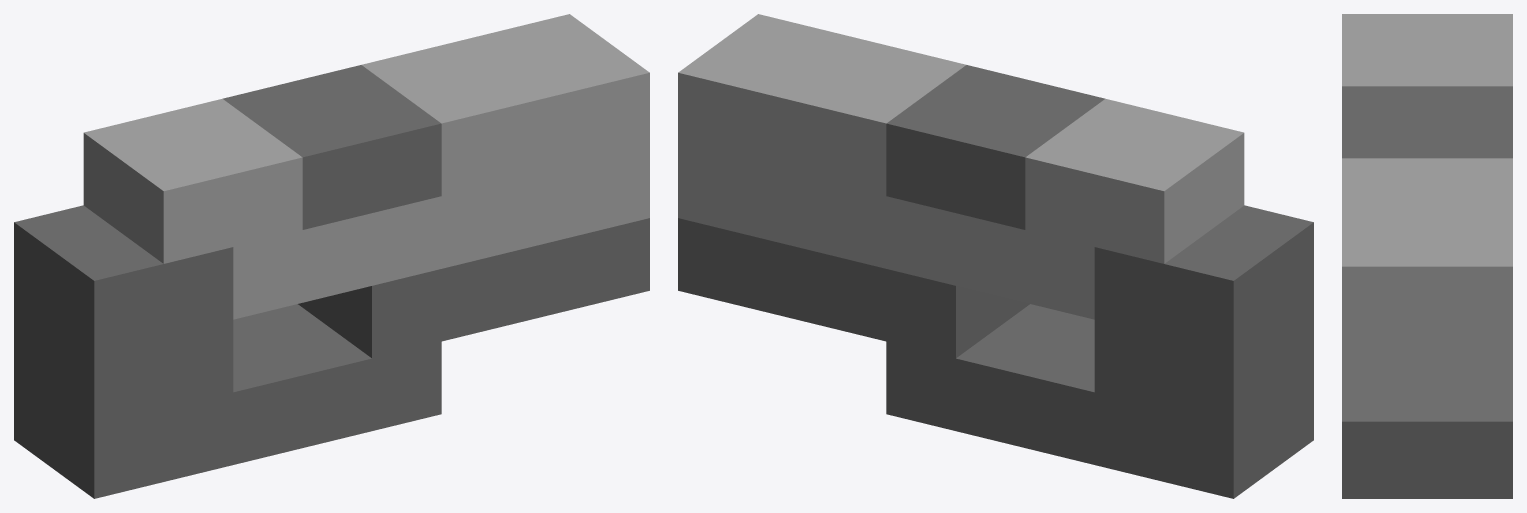
The model's file is handgun 10x.obj.
The picture shows the model from 3 angles, left to right: view 1: azimuth 30°, elevation 25°; view 2: azimuth 150°, elevation 25°; view 3: azimuth 270°, elevation 25°; orthographic projection. The views are drawn at different scales.
Visible parts, largest first — view 1: handgun 10x; view 2: handgun 10x; view 3: handgun 10x.
Boxes of the visible parts, x1,y1,x2,y2 form: handgun 10x: [14, 14, 649, 498]; handgun 10x: [678, 14, 1313, 498]; handgun 10x: [1342, 14, 1512, 498].
Size of the model in its own units: 8 by 4 by 2.
Materials: 1 (1 with a texture image).
